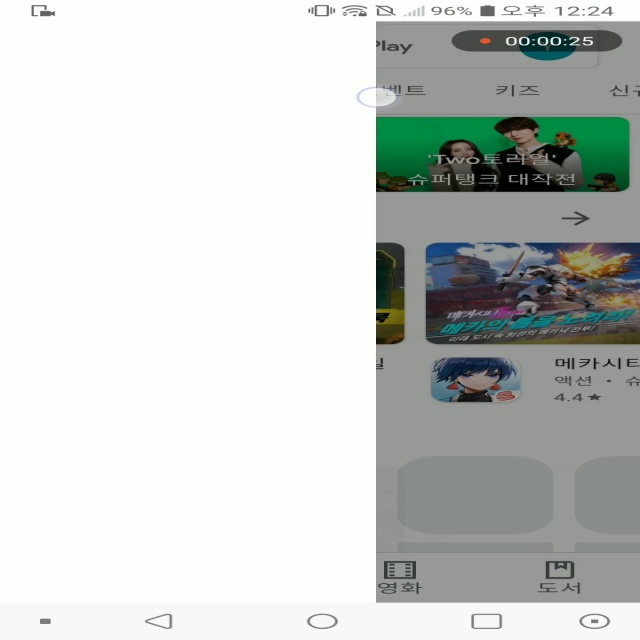Cursor: (355, 87, 400, 109)
